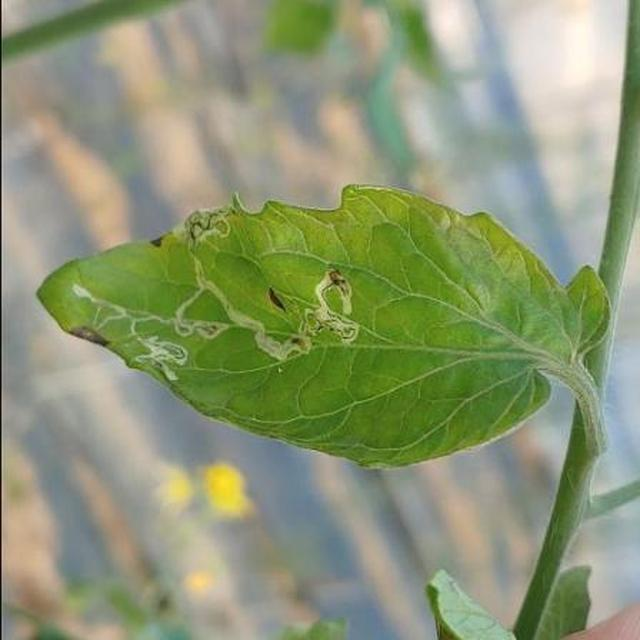Leaf Miner: (141, 263, 640, 640)
